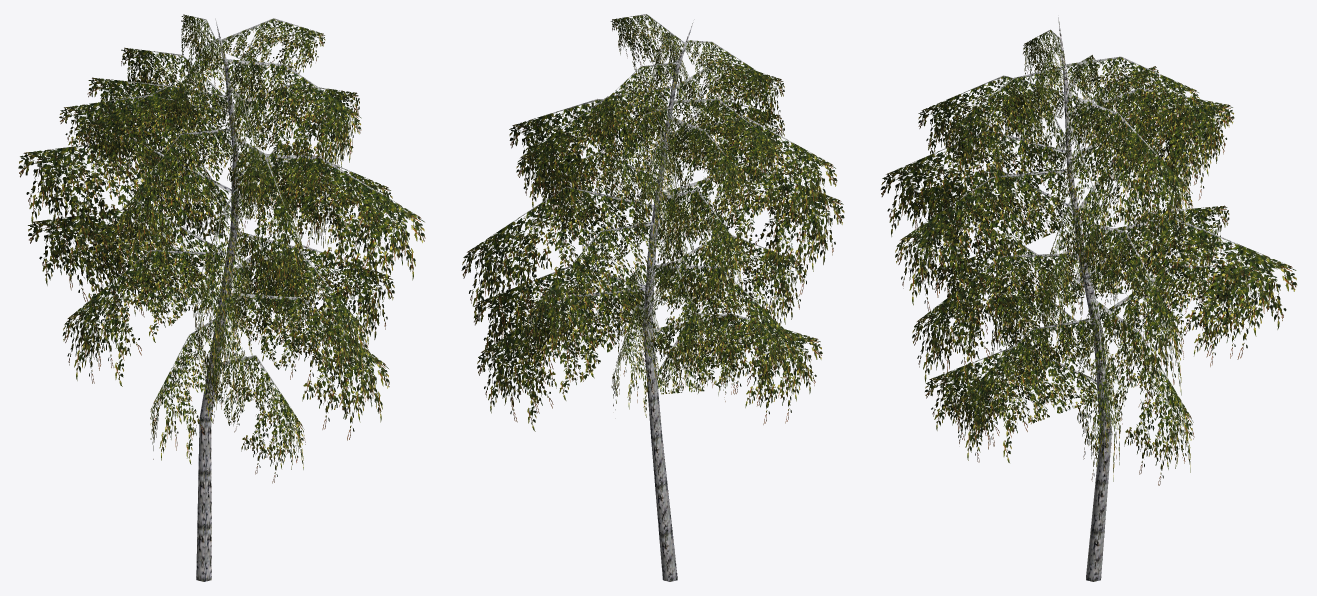
The model's file is birch_02.glb.
3 renders of one model, left to right at view 1: azimuth 30°, elevation 25°; view 2: azimuth 150°, elevation 25°; view 3: azimuth 270°, elevation 25°, orthographic. The views are drawn at different scales.
Parts seen in each view (by area): view 1: Birch_02; view 2: Birch_02; view 3: Birch_02.
Boxes of the visible parts, x1,y1,x2,y2 form: Birch_02: (18, 14, 425, 581); Birch_02: (461, 14, 844, 581); Birch_02: (880, 15, 1296, 581).
Size of the model in its own units: 1.82 by 2.92 by 2.01.
2 materials, 2 textured.
